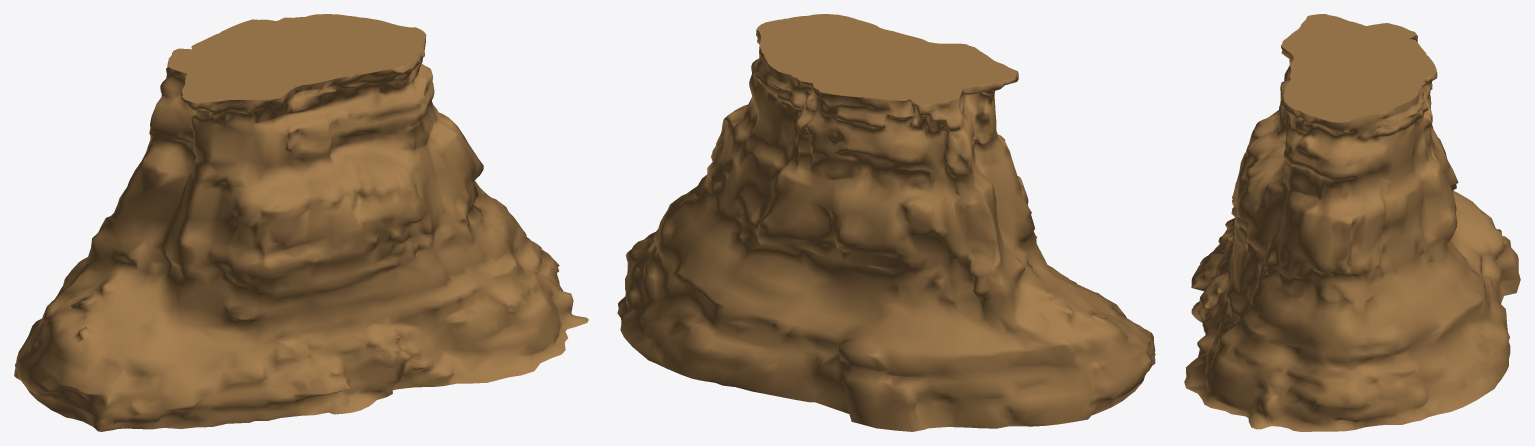
Rendered from MSH_Rocks_Cliff_09_b.FBX.
3 views of the same model, side by side, from view 1: azimuth 30°, elevation 25°; view 2: azimuth 150°, elevation 25°; view 3: azimuth 270°, elevation 25° (orthographic). The views are drawn at different scales.
Parts seen in each view (by area): view 1: MESH_LOD0, CAP_LOD0; view 2: MESH_LOD0, CAP_LOD0; view 3: MESH_LOD0, CAP_LOD0.
Boxes of the visible parts, <box> form: MESH_LOD0: <box>14,35,588,431</box>; CAP_LOD0: <box>168,14,425,103</box>; MESH_LOD0: <box>617,30,1155,431</box>; CAP_LOD0: <box>756,14,1017,105</box>; MESH_LOD0: <box>1184,34,1520,431</box>; CAP_LOD0: <box>1281,14,1436,122</box>.
Size of what is drawn, in the model's own units: 1256 by 660 by 792.
